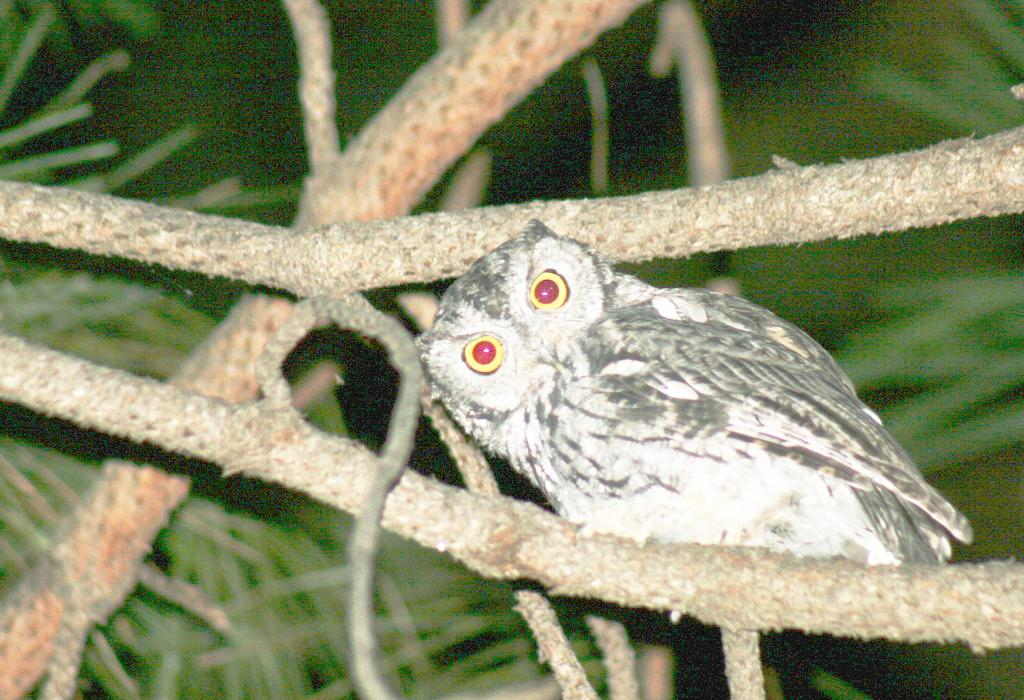Owl: (418, 233, 962, 578)
